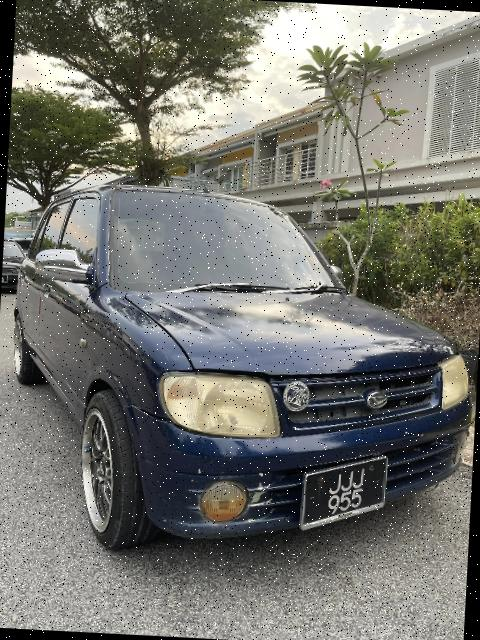License_Plate: (294, 461, 394, 523)
car: (2, 175, 480, 563)
